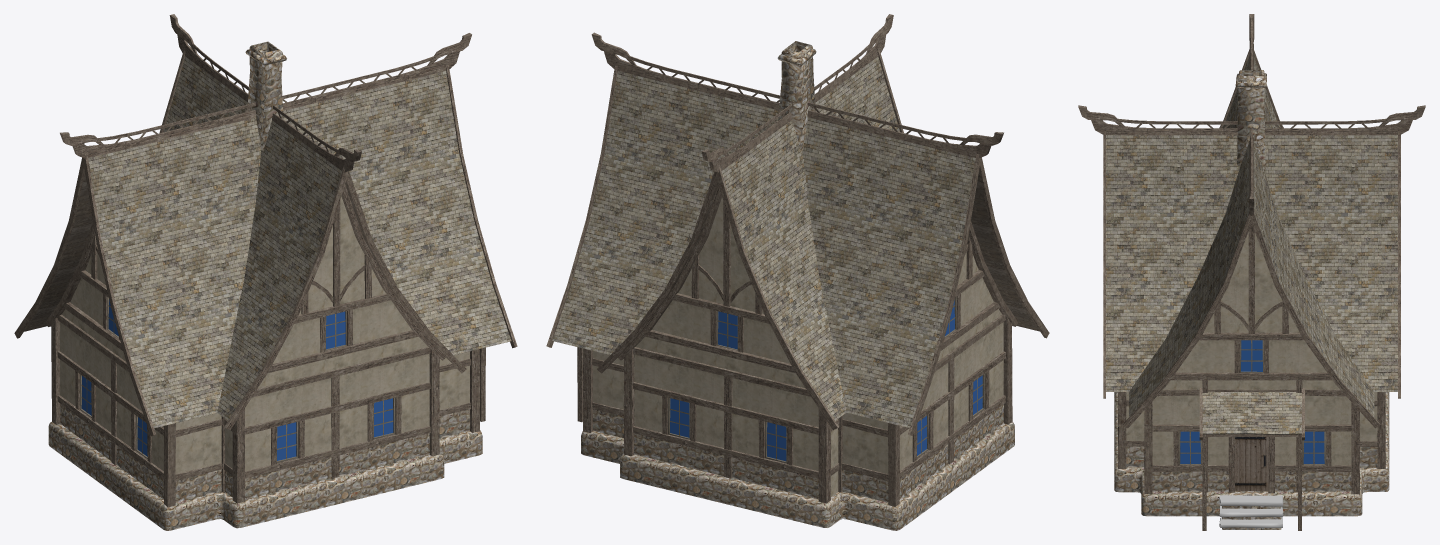
File: mw_type_2_cottage_06_LOD1.FBX
3 renders of one model, left to right at view 1: azimuth 30°, elevation 25°; view 2: azimuth 150°, elevation 25°; view 3: azimuth 270°, elevation 25°, orthographic. The views are drawn at different scales.
Visible parts, largest first — view 1: mw_type_2_cottage_building_06_roof, mw_type_2_cottage_building_06_wood, mw_type_2_cottage_building_06_walls, mw_type_2_cottage_building_06_bottom, mw_type_2_cottage_building_06_stone, mw_type_2_cottage_building_06; view 2: mw_type_2_cottage_building_06_roof, mw_type_2_cottage_building_06_wood, mw_type_2_cottage_building_06_walls, mw_type_2_cottage_building_06_bottom, mw_type_2_cottage_building_06_stone, mw_type_2_cottage_building_06; view 3: mw_type_2_cottage_building_06_roof, mw_type_2_cottage_building_06_wood, mw_type_2_cottage_building_06_walls, mw_type_2_cottage_building_06_bottom, mw_type_2_cottage_building_06_stone, mw_type_2_cottage_building_06.
Part boxes in pixels (left/top/right/bottom): mw_type_2_cottage_building_06_roof: left=24, top=56, right=511, bottom=428; mw_type_2_cottage_building_06_wood: left=14, top=14, right=517, bottom=507; mw_type_2_cottage_building_06_walls: left=60, top=196, right=469, bottom=474; mw_type_2_cottage_building_06_bottom: left=48, top=422, right=482, bottom=530; mw_type_2_cottage_building_06_stone: left=60, top=41, right=469, bottom=502; mw_type_2_cottage_building_06: left=80, top=297, right=395, bottom=462; mw_type_2_cottage_building_06_roof: left=552, top=56, right=1039, bottom=427; mw_type_2_cottage_building_06_wood: left=546, top=14, right=1049, bottom=506; mw_type_2_cottage_building_06_walls: left=593, top=197, right=1003, bottom=496; mw_type_2_cottage_building_06_bottom: left=581, top=422, right=1014, bottom=530; mw_type_2_cottage_building_06_stone: left=593, top=41, right=1003, bottom=502; mw_type_2_cottage_building_06: left=668, top=296, right=984, bottom=463; mw_type_2_cottage_building_06_roof: left=1106, top=55, right=1397, bottom=434; mw_type_2_cottage_building_06_wood: left=1078, top=14, right=1425, bottom=530; mw_type_2_cottage_building_06_walls: left=1126, top=232, right=1377, bottom=465; mw_type_2_cottage_building_06_bottom: left=1114, top=392, right=1389, bottom=529; mw_type_2_cottage_building_06_stone: left=1126, top=70, right=1377, bottom=491; mw_type_2_cottage_building_06: left=1179, top=340, right=1326, bottom=491.
Size of the model in its own units: 1742 by 1632 by 1381.
